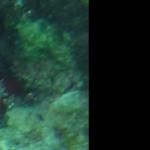dead: (1, 1, 86, 148)
